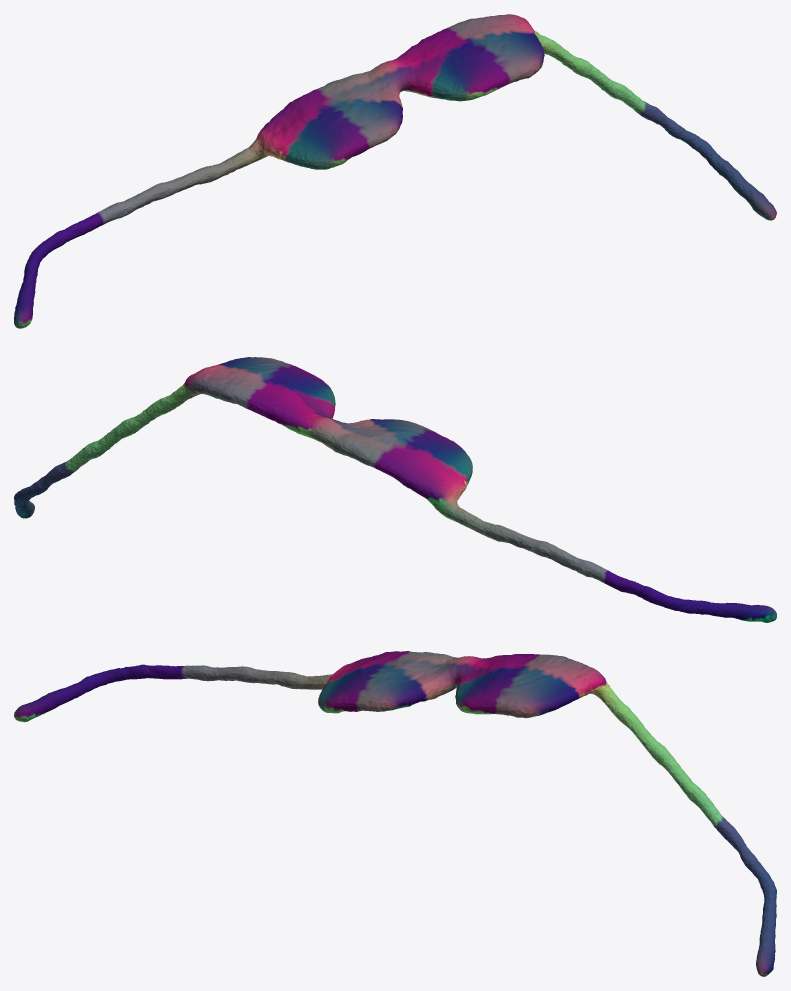
The model's file is glasses-17.off.obj.
3 renders of one model, top to bottom at view 1: azimuth 30°, elevation 25°; view 2: azimuth 150°, elevation 25°; view 3: azimuth 330°, elevation 25°, orthographic.
Size of the model in its own units: 1.64 by 0.47 by 0.2134.
